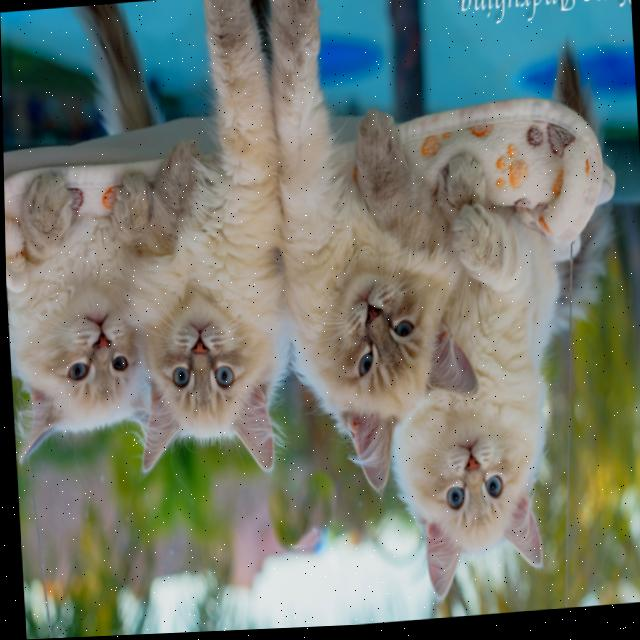Neva Masquerade: (379, 151, 626, 608), (267, 0, 484, 505), (114, 0, 292, 488), (3, 164, 157, 465)
